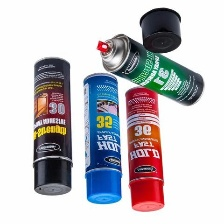aerosol_cans: (94, 29, 206, 109), (29, 54, 74, 197), (81, 68, 125, 207), (122, 82, 167, 215)
